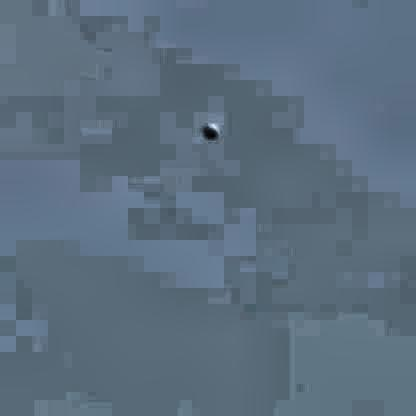golfball: (199, 117, 215, 135)
